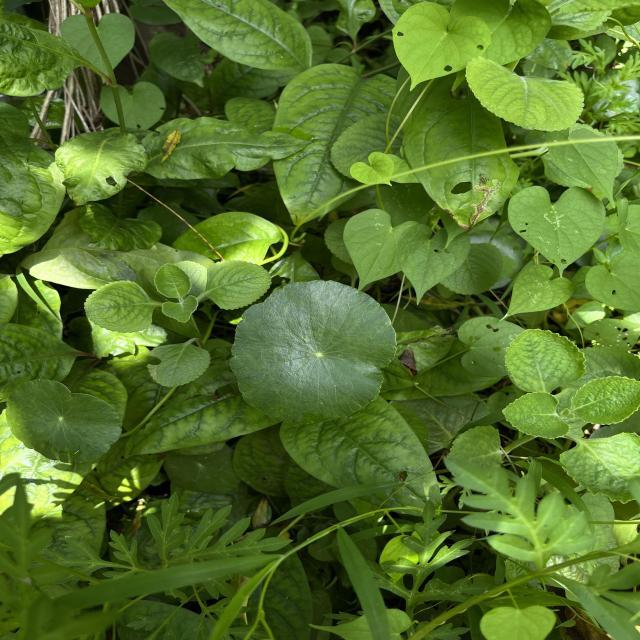Bacopa monnieri: (228, 279, 399, 426), (3, 377, 124, 464)
